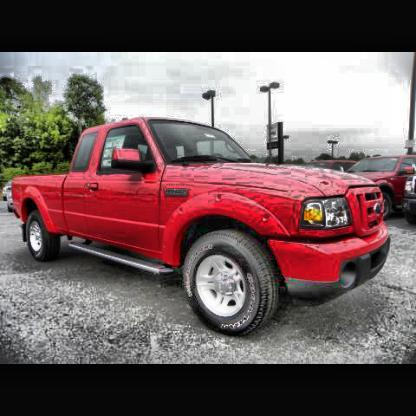Ford Ranger SuperCab 2011: (12, 117, 390, 341)
